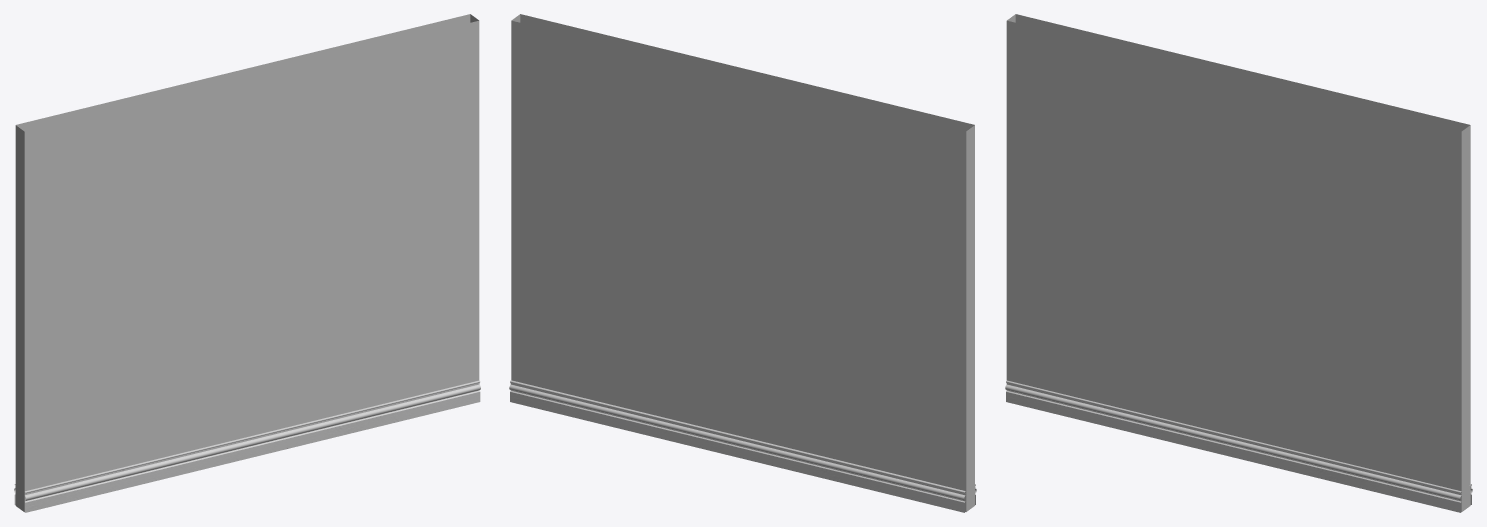
Rendered from WallTile.FBX.
3 views of the same model, side by side, from view 1: azimuth 30°, elevation 25°; view 2: azimuth 150°, elevation 25°; view 3: azimuth 330°, elevation 25° (orthographic).
Visible parts, largest first — view 1: Box001; view 2: Box001; view 3: Box001.
Part boxes in pixels (left/top/right/bottom): Box001: left=14, top=14, right=480, bottom=512; Box001: left=509, top=14, right=976, bottom=512; Box001: left=1005, top=14, right=1472, bottom=512.
Size of the model in its own units: 100 by 80 by 4.64.
